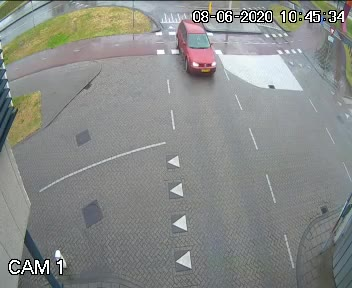car: (167, 17, 226, 88)
